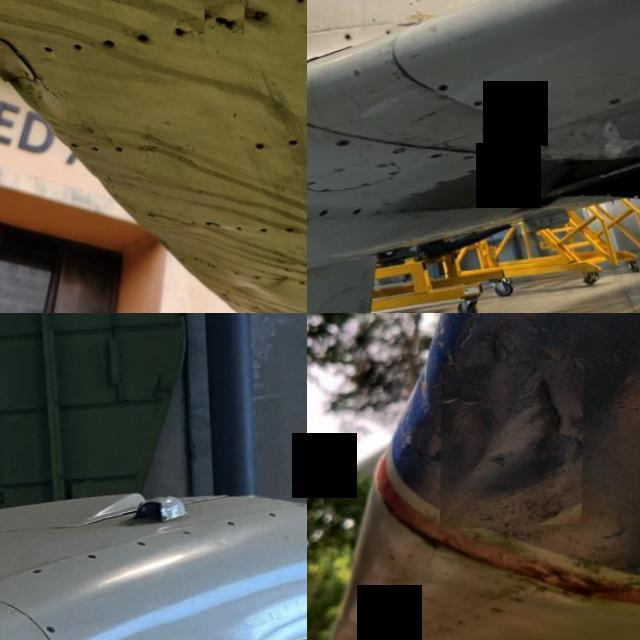Crack: (206, 7, 246, 48), (307, 55, 329, 67)
Dent: (441, 362, 585, 532)
Missing_Fastener: (334, 142, 353, 152), (317, 210, 331, 223), (608, 104, 626, 114), (351, 210, 367, 221), (428, 157, 446, 166), (438, 88, 454, 98), (467, 172, 483, 182), (536, 128, 550, 138), (471, 104, 488, 112), (342, 34, 355, 44), (463, 158, 478, 166), (496, 162, 511, 168), (506, 118, 517, 126), (32, 570, 46, 576), (88, 556, 102, 562), (384, 33, 394, 38)
